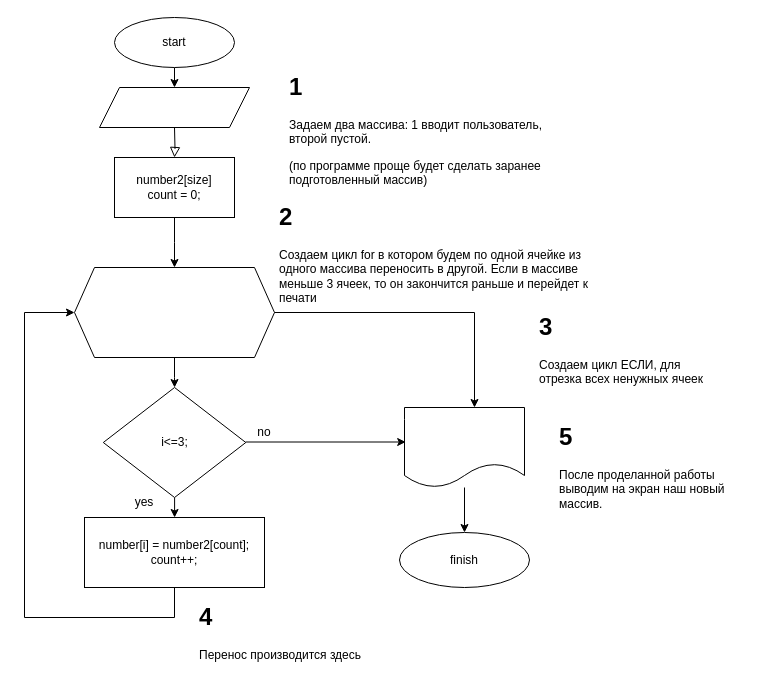
Some shapes in this 762 by 700 pixel diagram are drawn without their labels. The shapes that lost their labels are listed below. From the top down, each one's centre as x and y in pixels, then its label:
the point at 174,107: number[size]
the point at 174,312: i=0, i<number[size]; i++;
the point at 464,447: print number2[size]
